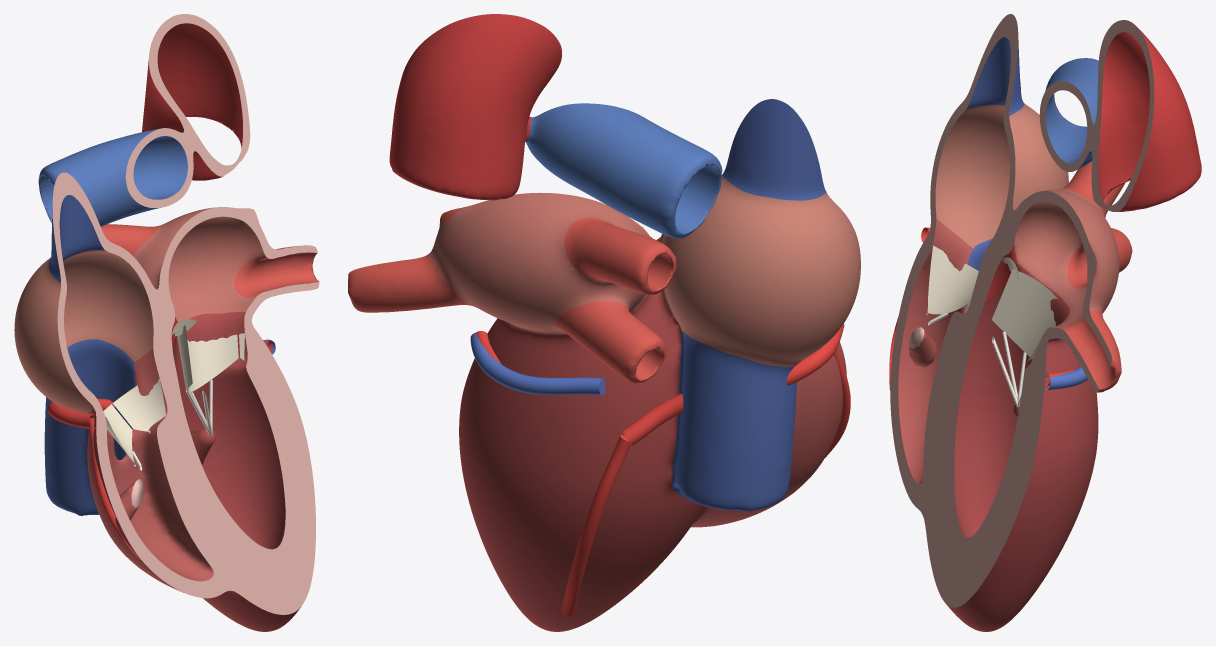
File: heart-dissection.glb
The picture shows the model from 3 angles, left to right: view 1: azimuth 30°, elevation 25°; view 2: azimuth 150°, elevation 25°; view 3: azimuth 270°, elevation 25°; orthographic projection. The views are drawn at different scales.
Visible parts, largest first — view 1: Dissection_Wall, Dissection_Valve_mitral, Dissection_Valve_tricuspid, Dissection_Coronary_right_coronary_artery, Dissection_Coronary_marginal_branch, Dissection_Chordae_mitral, Dissection_Papillary_tricuspid, Dissection_Papillary_mitral; view 2: Dissection_Wall, Dissection_Coronary_posterior_descending_artery, Dissection_Coronary_great_cardiac_vein, Dissection_Coronary_right_coronary_artery, Dissection_Coronary_marginal_branch; view 3: Dissection_Wall, Dissection_Valve_mitral, Dissection_Valve_tricuspid, Dissection_Papillary_tricuspid, Dissection_Chordae_mitral, Dissection_Coronary_great_cardiac_vein.
Part boxes in pixels (left/top/right/bottom): Dissection_Wall: left=14, top=14, right=319, bottom=631; Dissection_Valve_mitral: left=177, top=325, right=244, bottom=392; Dissection_Valve_tricuspid: left=103, top=378, right=165, bottom=463; Dissection_Coronary_right_coronary_artery: left=47, top=398, right=114, bottom=428; Dissection_Coronary_marginal_branch: left=89, top=418, right=140, bottom=559; Dissection_Chordae_mitral: left=185, top=379, right=212, bottom=435; Dissection_Papillary_tricuspid: left=119, top=479, right=143, bottom=520; Dissection_Papillary_mitral: left=190, top=428, right=216, bottom=465; Dissection_Wall: left=348, top=14, right=860, bottom=631; Dissection_Coronary_posterior_descending_artery: left=561, top=434, right=630, bottom=615; Dissection_Coronary_great_cardiac_vein: left=470, top=332, right=605, bottom=395; Dissection_Coronary_right_coronary_artery: left=622, top=323, right=844, bottom=445; Dissection_Coronary_marginal_branch: left=825, top=349, right=850, bottom=457; Dissection_Wall: left=890, top=14, right=1201, bottom=631; Dissection_Valve_mitral: left=991, top=269, right=1057, bottom=360; Dissection_Valve_tricuspid: left=927, top=245, right=978, bottom=314; Dissection_Papillary_tricuspid: left=909, top=327, right=936, bottom=367; Dissection_Chordae_mitral: left=992, top=331, right=1026, bottom=407; Dissection_Coronary_great_cardiac_vein: left=1044, top=366, right=1087, bottom=390.
Bounding box in the file's own units: 0.1018 × 0.1558 × 0.0747.
